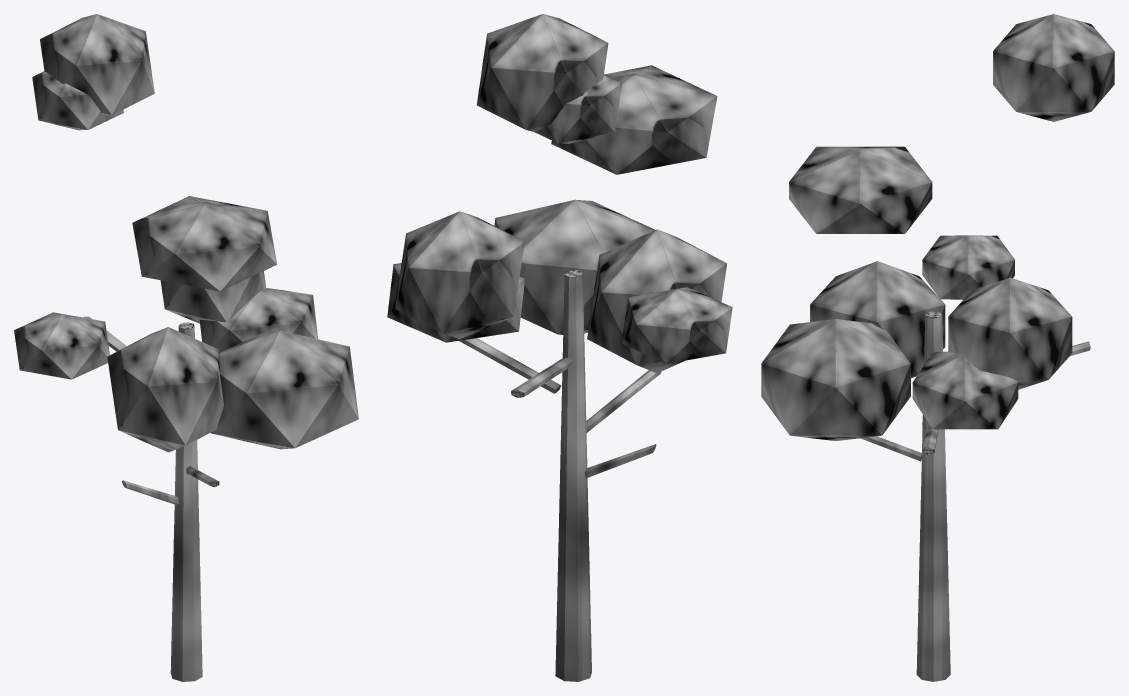
Rendered from tree_birch_large.glb.
3 renders of one model, left to right at view 1: azimuth 30°, elevation 25°; view 2: azimuth 150°, elevation 25°; view 3: azimuth 270°, elevation 25°, orthographic. The views are drawn at different scales.
Visible parts, largest first — view 1: tree_birch_large; view 2: tree_birch_large; view 3: tree_birch_large.
Part boxes in pixels (x1=…): tree_birch_large: x1=14, y1=14, x2=358, y2=681; tree_birch_large: x1=387, y1=14, x2=732, y2=681; tree_birch_large: x1=761, y1=14, x2=1114, y2=681.
Bounding box in the file's own units: 3.98 × 8.15 × 4.05.
Materials: 1 (1 with a texture image).
